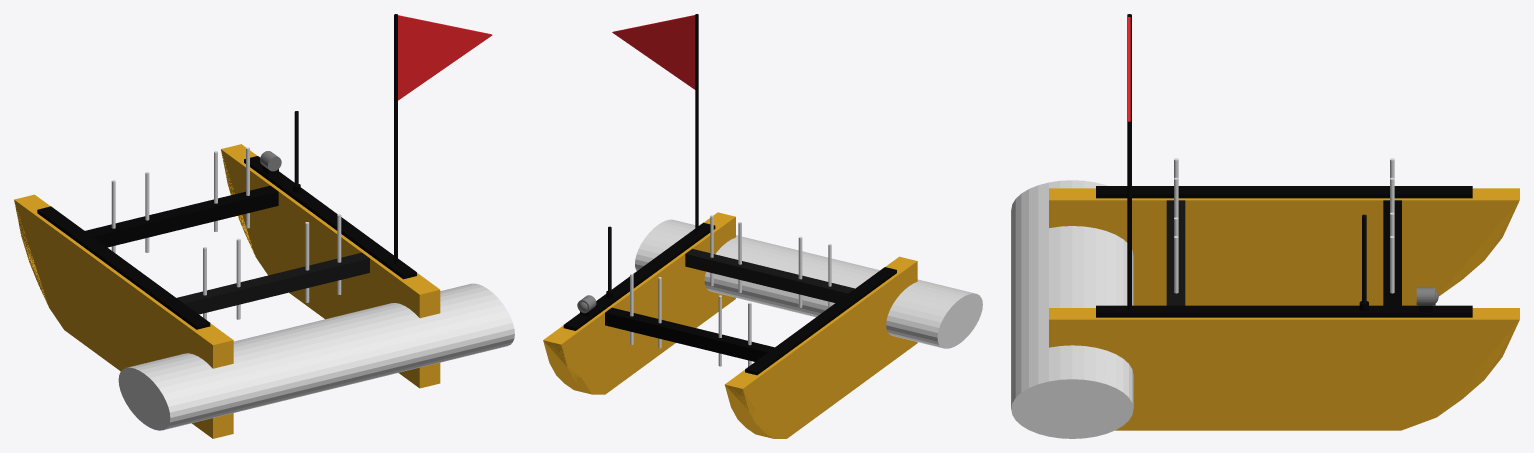
File: BlueBoat.fbx
3 renders of one model, left to right at view 1: azimuth 30°, elevation 25°; view 2: azimuth 150°, elevation 25°; view 3: azimuth 270°, elevation 25°, orthographic. The views are drawn at different scales.
Visible parts, largest first — view 1: Cylinder, Hull_Left, Hull_Right, Flag, Joined_Fram_D, Joined_Fram_E, PORT_Electronics, STBD_Electronics, Cylinder.010, Cylinder.008, Flag_Rod; view 2: Hull_Left, Cylinder, Hull_Right, Flag, Joined_Fram_E, Joined_Fram_D, PORT_Electronics, STBD_Electronics, Cylinder.010, Flag_Rod, Cylinder.008; view 3: Hull_Right, Hull_Left, Cylinder, PORT_Electronics, STBD_Electronics, Joined_Fram_E, Joined_Fram_D, Flag_Rod, Cylinder.008, Cylinder.010.
Part boxes in pixels (<box>): Cylinder: <box>118,283,514,430</box>; Hull_Left: <box>14,194,233,438</box>; Hull_Right: <box>221,144,440,388</box>; Flag: <box>398,15,492,100</box>; Joined_Fram_D: <box>85,185,278,247</box>; Joined_Fram_E: <box>177,252,369,314</box>; PORT_Electronics: <box>37,206,210,329</box>; STBD_Electronics: <box>244,156,416,279</box>; Cylinder.010: <box>203,214,341,319</box>; Cylinder.008: <box>111,147,249,253</box>; Flag_Rod: <box>394,14,397,264</box>; Hull_Left: <box>724,256,917,438</box>; Cylinder: <box>635,219,982,348</box>; Hull_Right: <box>543,212,735,394</box>; Flag: <box>612,15,695,89</box>; Joined_Fram_E: <box>685,248,854,302</box>; Joined_Fram_D: <box>605,307,774,361</box>; PORT_Electronics: <box>745,267,896,375</box>; STBD_Electronics: <box>563,222,715,330</box>; Cylinder.010: <box>710,215,831,307</box>; Flag_Rod: <box>695,14,698,233</box>; Cylinder.008: <box>630,274,751,366</box>; Hull_Right: <box>1049,308,1519,430</box>; Hull_Left: <box>1049,188,1519,305</box>; Cylinder: <box>1011,180,1133,438</box>; PORT_Electronics: <box>1096,186,1472,198</box>; STBD_Electronics: <box>1096,305,1472,317</box>; Joined_Fram_E: <box>1166,200,1185,305</box>; Joined_Fram_D: <box>1383,200,1401,305</box>; Flag_Rod: <box>1127,14,1131,310</box>; Cylinder.008: <box>1390,158,1394,293</box>; Cylinder.010: <box>1174,158,1178,293</box>.
Size of the model in its own units: 1080 by 1079 by 960.
